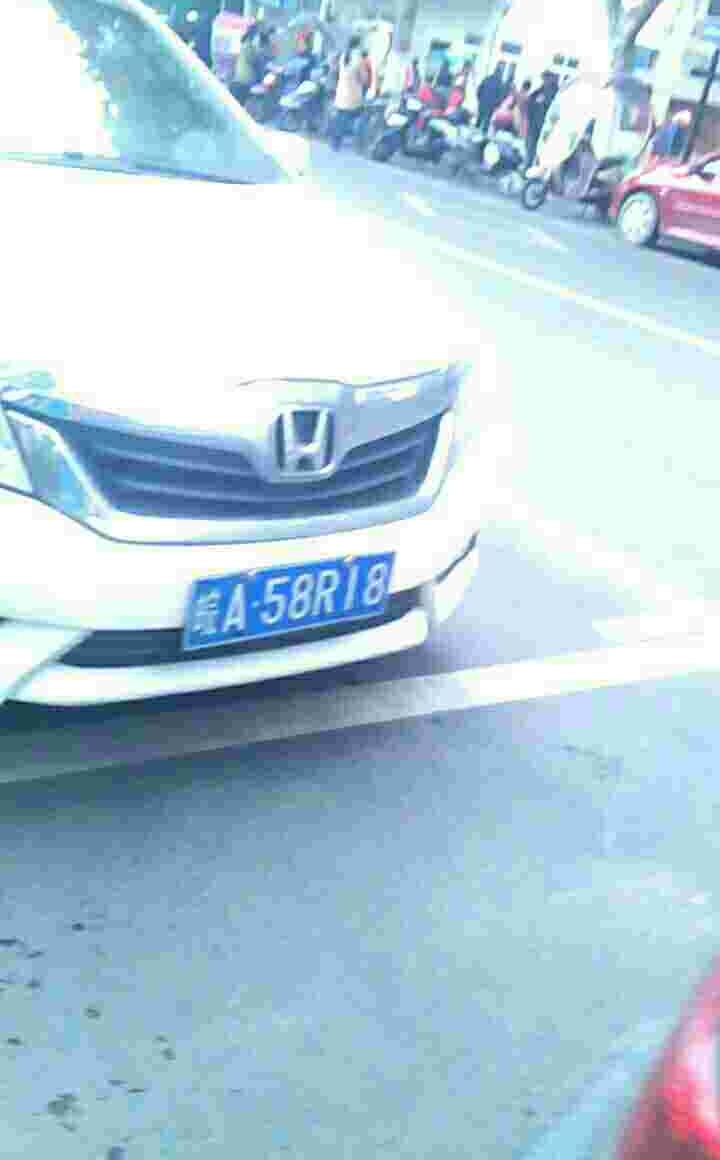license_plate: (183, 549, 394, 651)
